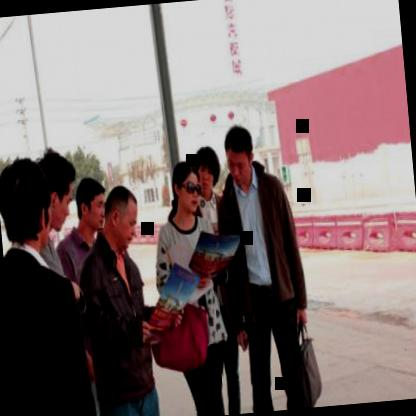head: (0, 152, 59, 259), (100, 178, 144, 253), (41, 154, 76, 228), (221, 121, 259, 188), (74, 176, 110, 242), (168, 158, 204, 220), (193, 142, 224, 202)
